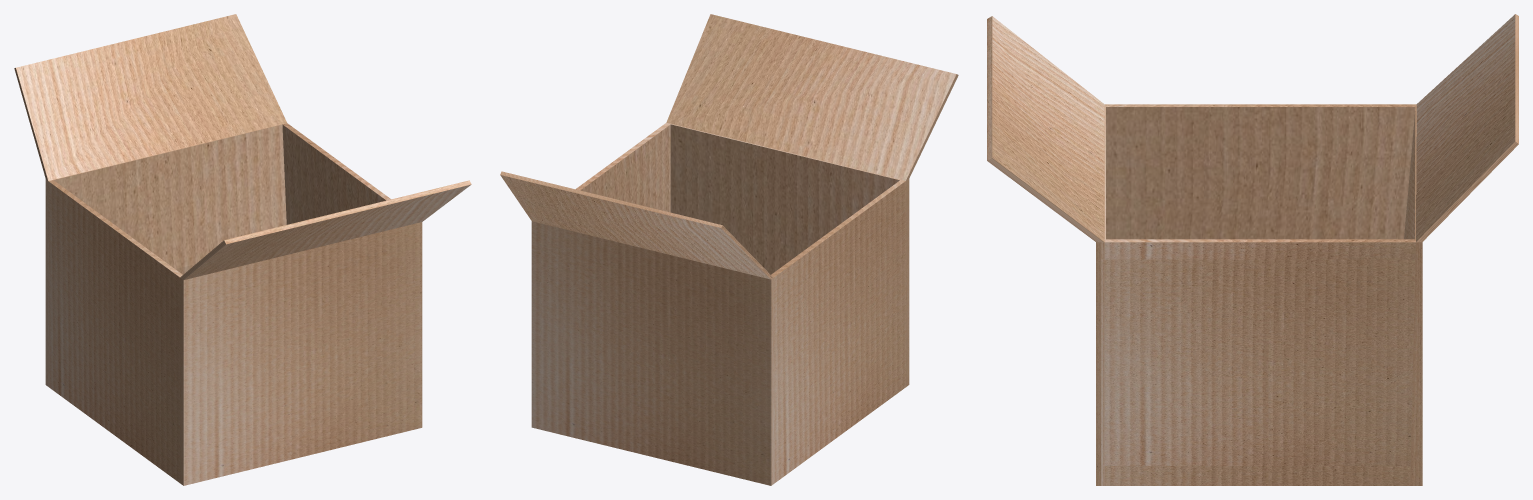
File: Caja.fbx
3 renders of one model, left to right at view 1: azimuth 30°, elevation 25°; view 2: azimuth 150°, elevation 25°; view 3: azimuth 270°, elevation 25°, orthographic. The views are drawn at different scales.
Parts seen in each view (by area): view 1: Cube; view 2: Cube; view 3: Cube.
Boxes of the visible parts, x1,y1,x2,y2 form: Cube: [14, 14, 471, 485]; Cube: [500, 14, 958, 485]; Cube: [987, 14, 1518, 485].
Size of the model in its own units: 206 by 229 by 326.
Materials: 1 (1 with a texture image).
